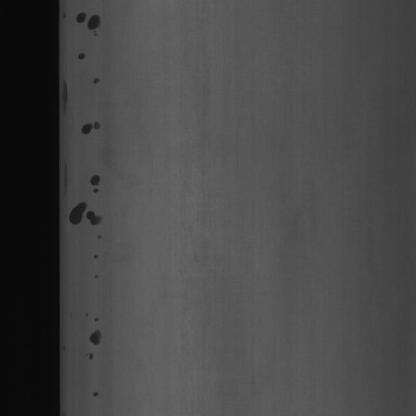oil_spot: (67, 192, 103, 244), (70, 1, 107, 40), (82, 320, 102, 366), (86, 168, 106, 198), (80, 118, 106, 141), (62, 87, 70, 122), (90, 77, 103, 95), (78, 51, 88, 66)
